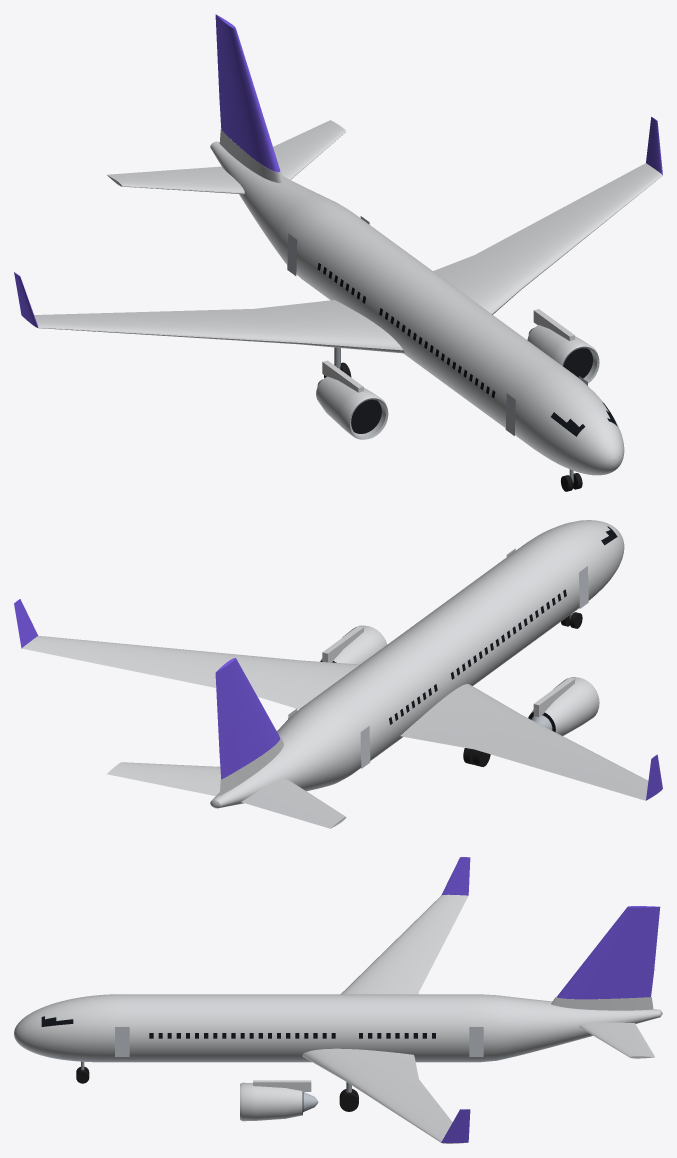
The model's file is airliner.glb.
3 renders of one model, top to bottom at view 1: azimuth 30°, elevation 25°; view 2: azimuth 150°, elevation 25°; view 3: azimuth 270°, elevation 25°, orthographic. The views are drawn at different scales.
Parts seen in each view (by area): view 1: Airliner; view 2: Airliner; view 3: Airliner.
Boxes of the visible parts, <box> form: Airliner: <box>14,14,662,491</box>; Airliner: <box>14,520,662,828</box>; Airliner: <box>14,857,662,1143</box>.
Bounding box in the file's own units: 34.75 × 11.2 × 37.75.
